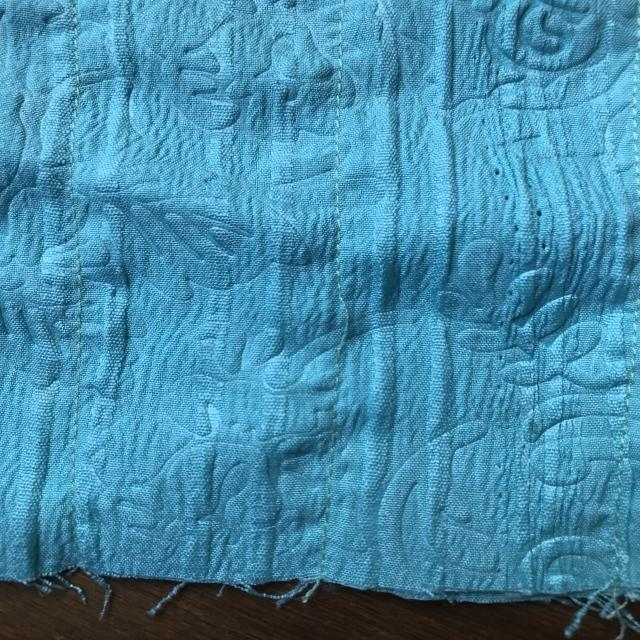good: (332, 157, 348, 234)
skip: (329, 276, 362, 365)
